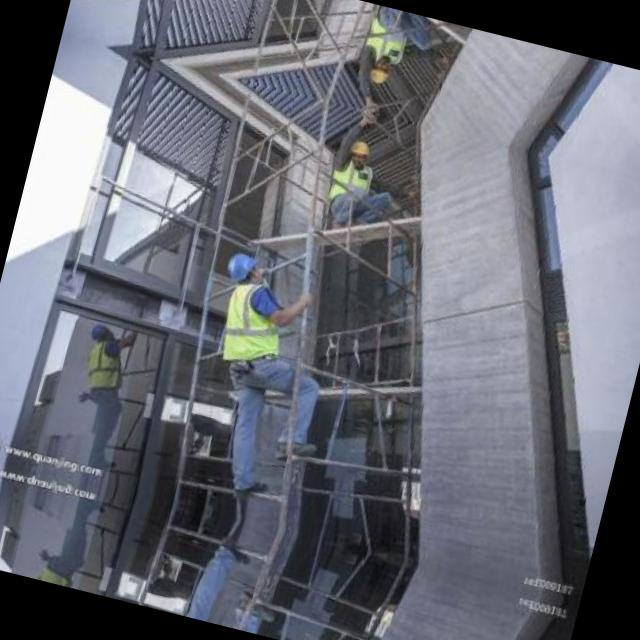helmet: (221, 247, 271, 290), (361, 52, 399, 92), (341, 133, 379, 172), (82, 317, 126, 348)
